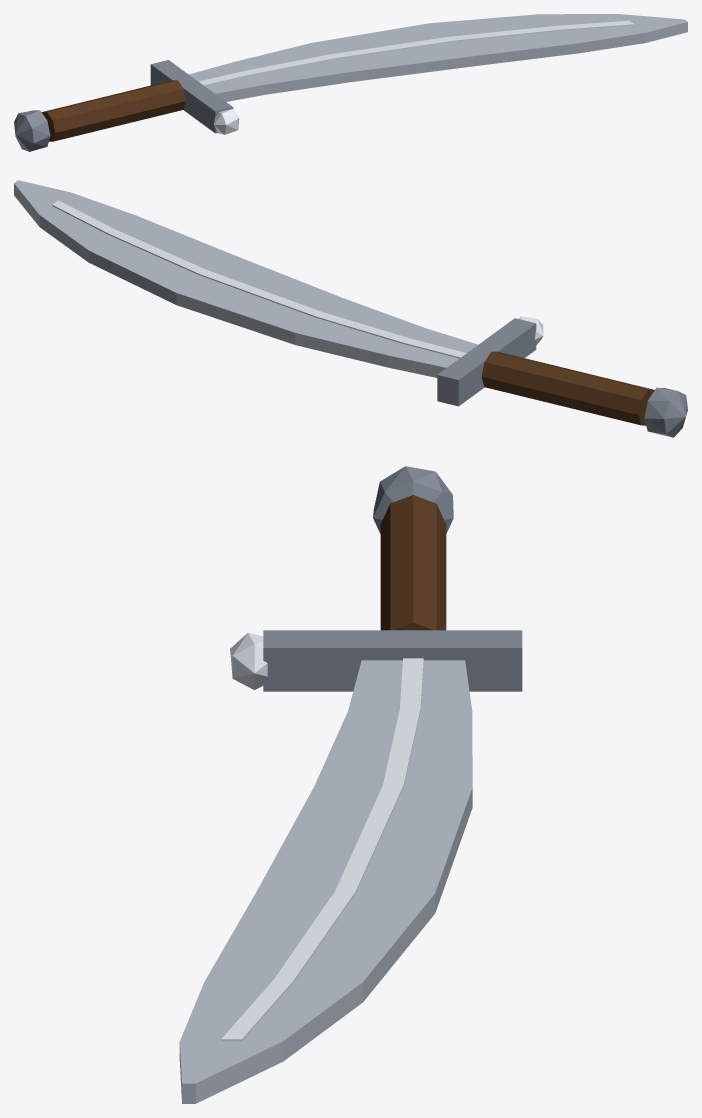
Rendered from drop_steel_scimitar.glb.
3 renders of one model, top to bottom at view 1: azimuth 30°, elevation 25°; view 2: azimuth 150°, elevation 25°; view 3: azimuth 270°, elevation 25°, orthographic. The views are drawn at different scales.
Parts seen in each view (by area): view 1: drop_steel_scimitar; view 2: drop_steel_scimitar; view 3: drop_steel_scimitar.
Part boxes in pixels (x1,y1,x2,y2): drop_steel_scimitar: (14, 14, 687, 151); drop_steel_scimitar: (14, 180, 687, 437); drop_steel_scimitar: (179, 466, 522, 1103).
Bounding box in the file's own units: 0.6576 × 0.0374 × 0.1586.
